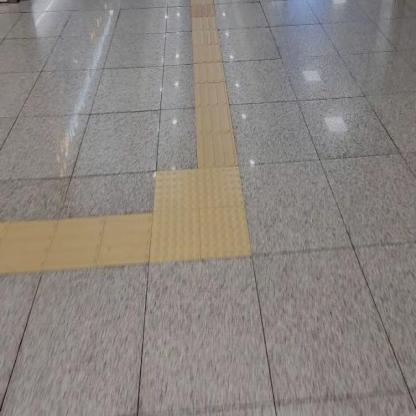podotacti: (125, 129, 270, 292), (0, 212, 150, 282), (189, 0, 240, 165)
